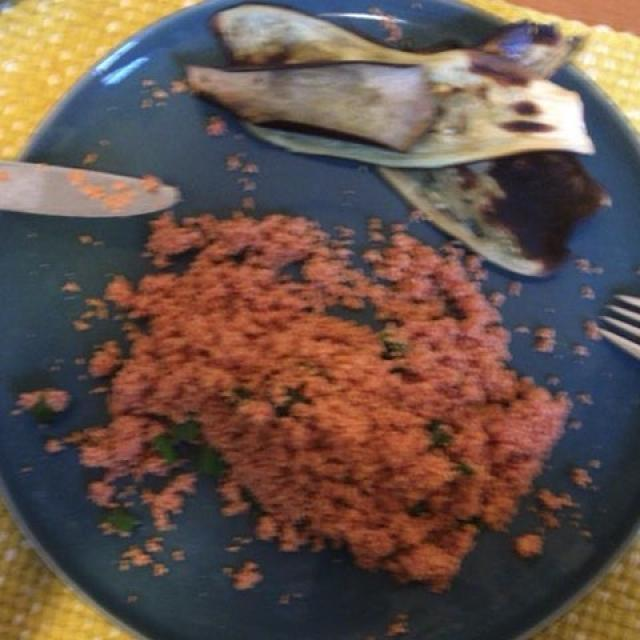eggplant: (184, 5, 598, 280)
taboule-prepared-with-couscous: (61, 221, 561, 581)
